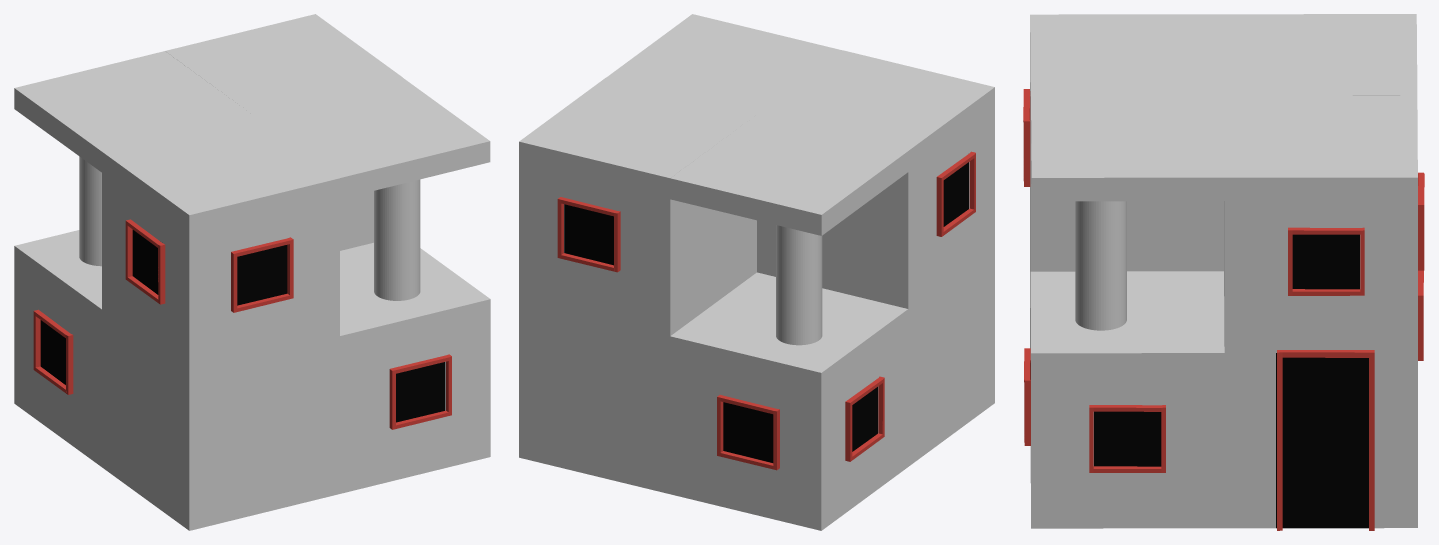
Rendered from luxury_house.glb.
3 views of the same model, side by side, from view 1: azimuth 30°, elevation 25°; view 2: azimuth 150°, elevation 25°; view 3: azimuth 270°, elevation 25° (orthographic). The views are drawn at different scales.
Parts seen in each view (by area): view 1: Cube, Cube.010, Cube.011, Cylinder.001, Cylinder, Cube.002, Cube.005, Cube.001, Cube.003; view 2: Cube, Cube.011, Cube.010, Cylinder, Cube.006, Cube.004, Cube.003, Cube.001; view 3: Cube, Cube.010, Cube.011, Cylinder.001, Cube.008, Cube.007, Cube.009, Cube.002, Cube.006, Cube.005, Cube.004.
Part boxes in pixels (<box>): Cube: <box>14,14,490,530</box>; Cube.010: <box>252,77,490,198</box>; Cube.011: <box>14,51,251,172</box>; Cylinder.001: <box>374,179,420,300</box>; Cylinder: <box>79,156,101,266</box>; Cube.002: <box>231,237,293,312</box>; Cube.005: <box>389,354,451,429</box>; Cube.001: <box>125,219,165,304</box>; Cube.003: <box>33,309,73,394</box>; Cube: <box>519,50,994,530</box>; Cube.011: <box>670,114,908,235</box>; Cube.010: <box>606,14,843,114</box>; Cylinder: <box>776,225,822,345</box>; Cube.006: <box>557,197,620,272</box>; Cube.004: <box>717,395,779,470</box>; Cube.003: <box>845,376,884,461</box>; Cube.001: <box>936,151,975,236</box>; Cube: <box>1030,14,1417,528</box>; Cube.010: <box>1031,96,1224,201</box>; Cube.011: <box>1223,14,1417,95</box>; Cylinder.001: <box>1075,201,1126,330</box>; Cube.008: <box>1277,350,1374,530</box>; Cube.007: <box>1288,227,1364,295</box>; Cube.009: <box>1089,405,1165,472</box>; Cube.002: <box>1023,89,1030,186</box>; Cube.006: <box>1418,172,1424,270</box>; Cube.005: <box>1024,348,1030,445</box>; Cube.004: <box>1418,270,1423,360</box>.
Size of the model in its own units: 3.11 by 3 by 3.11.
